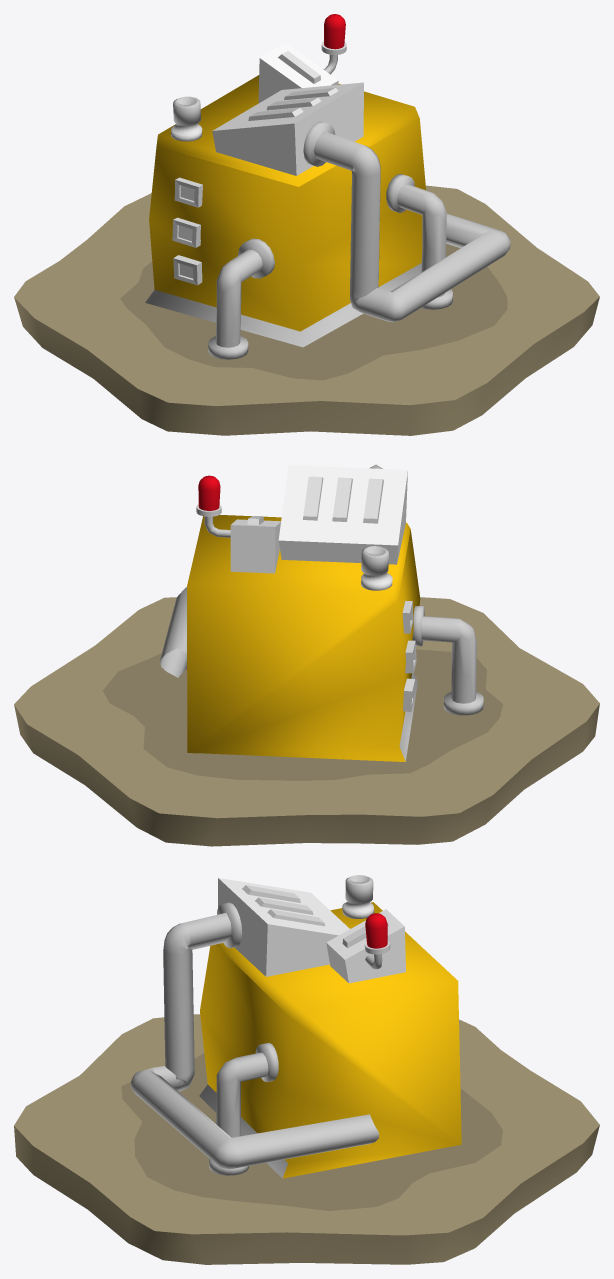
Rendered from Digester00.fbx.
The picture shows the model from 3 angles, top to bottom: view 1: azimuth 30°, elevation 25°; view 2: azimuth 150°, elevation 25°; view 3: azimuth 270°, elevation 25°; orthographic projection.
Parts seen in each view (by area): view 1: Digester; view 2: Digester; view 3: Digester.
Boxes of the visible parts, x1,y1,x2,y2 form: Digester: (14,14,599,435); Digester: (14,464,599,846); Digester: (14,875,599,1264).
Bounding box in the file's own units: 0.9199 × 0.5214 × 1.02.
